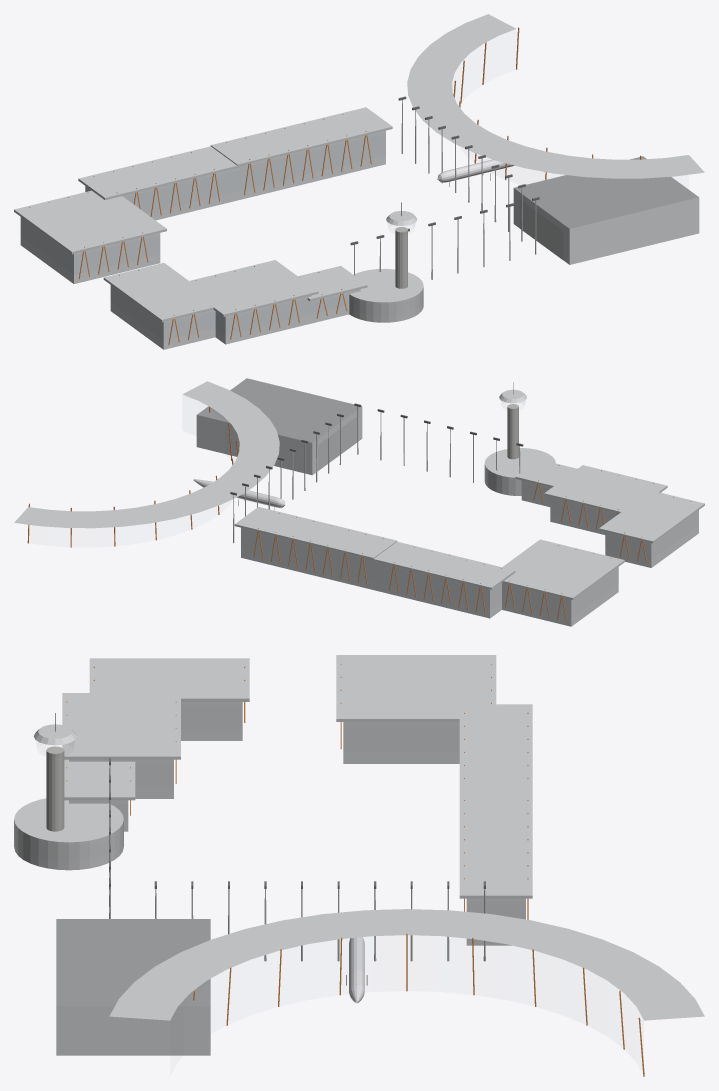
File: T_Far.glb
3 renders of one model, top to bottom at view 1: azimuth 30°, elevation 25°; view 2: azimuth 150°, elevation 25°; view 3: azimuth 270°, elevation 25°, orthographic. The views are drawn at different scales.
Parts seen in each view (by area): view 1: ARCH_T_Far; view 2: ARCH_T_Far; view 3: ARCH_T_Far.
Boxes of the visible parts, bbox=[...] form: ARCH_T_Far: bbox=[14, 14, 704, 349]; ARCH_T_Far: bbox=[14, 378, 704, 626]; ARCH_T_Far: bbox=[14, 655, 704, 1076].
Size of what is drawn, in the model's own units: 258 by 46.01 by 202.
